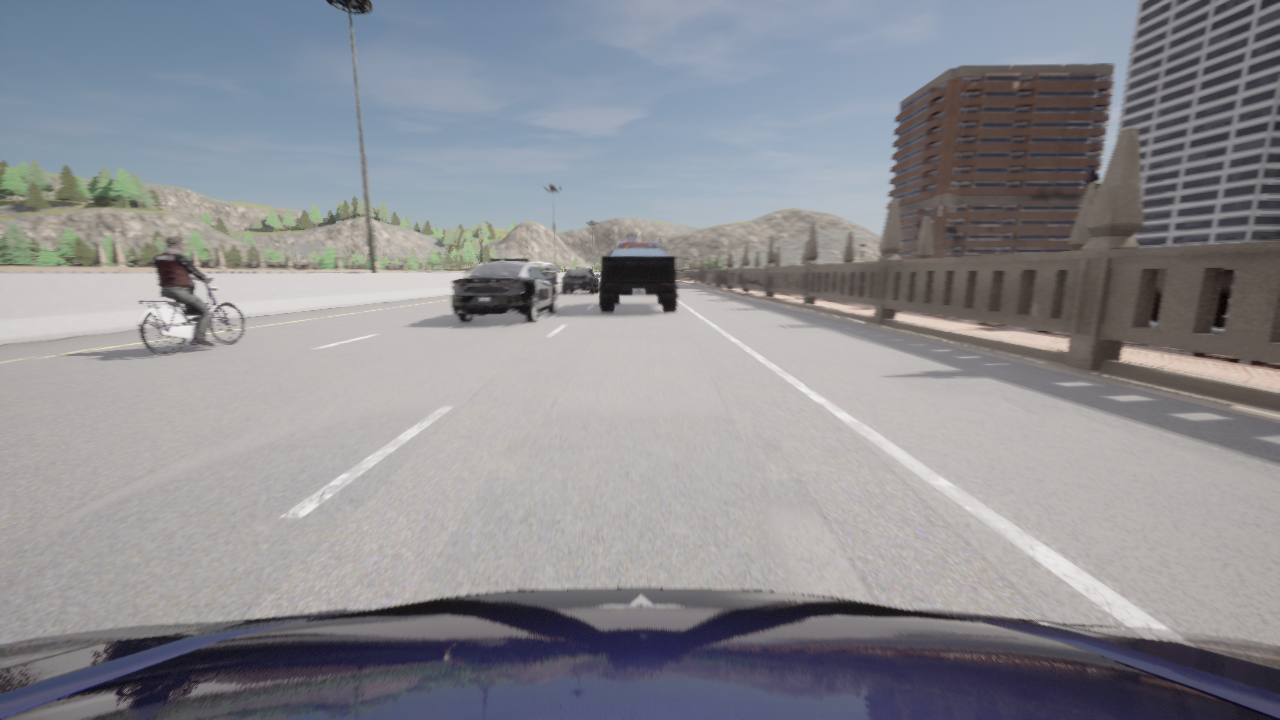cyclist: (0, 588, 1279, 719), (138, 278, 244, 354), (452, 257, 556, 321), (600, 248, 677, 311), (562, 268, 599, 293), (528, 261, 558, 287), (618, 235, 658, 247)
